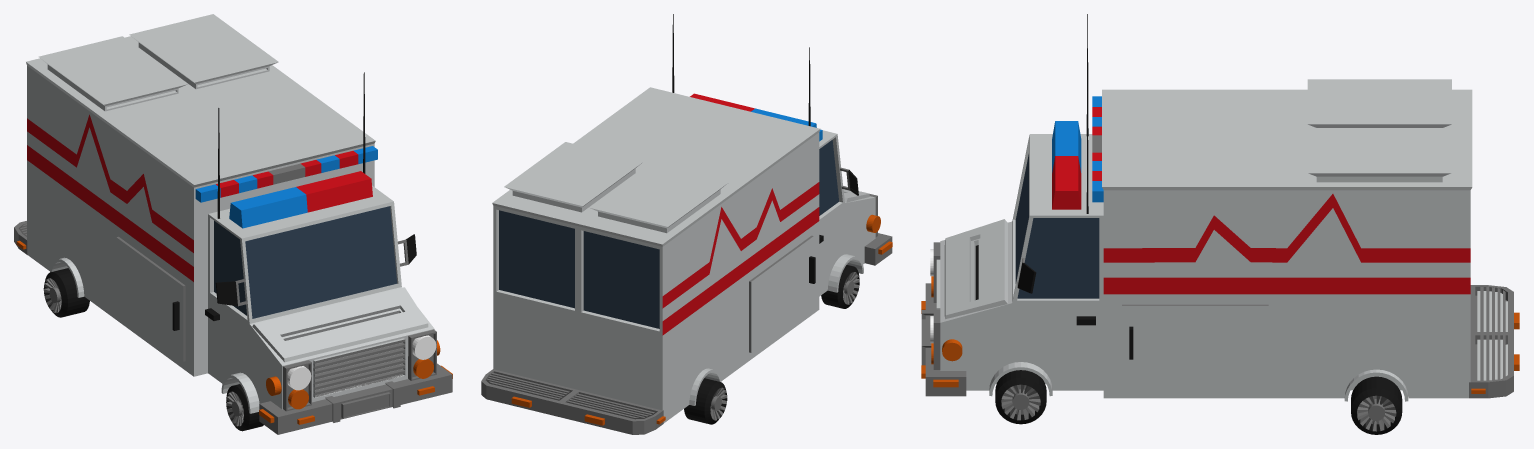
File: ambulance_model.gltf
3 views of the same model, side by side, from view 1: azimuth 30°, elevation 25°; view 2: azimuth 150°, elevation 25°; view 3: azimuth 270°, elevation 25° (orthographic). The views are drawn at different scales.
Parts seen in each view (by area): view 1: Ambulance, wheels2, wheels1; view 2: Ambulance, wheels2, wheels1; view 3: Ambulance, wheels2, wheels1.
Boxes of the visible parts, x1,y1,x2,y2 form: Ambulance: (14, 14, 452, 434); wheels2: (43, 268, 89, 317); wheels1: (226, 384, 263, 431); Ambulance: (481, 14, 892, 434); wheels2: (684, 378, 727, 424); wheels1: (821, 265, 859, 308); Ambulance: (921, 14, 1519, 401); wheels2: (1351, 376, 1402, 434); wheels1: (995, 370, 1046, 424).
Size of the model in its own units: 2.97 by 3.92 by 6.52.
